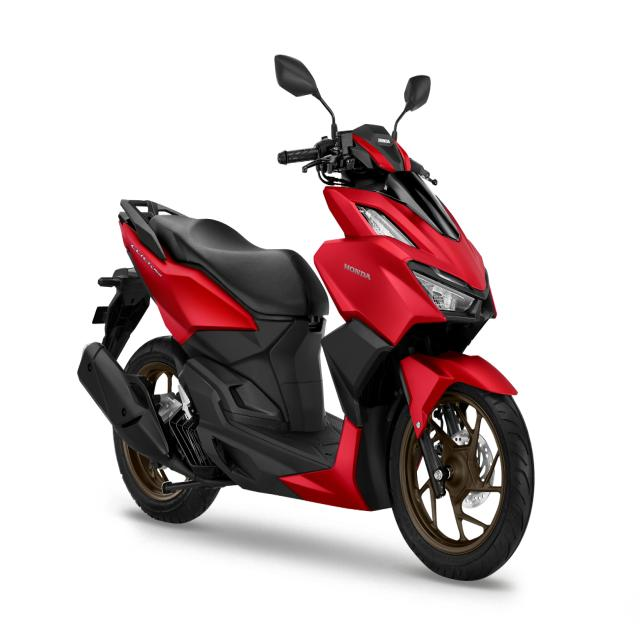Motorcycle: (77, 123, 534, 580)
